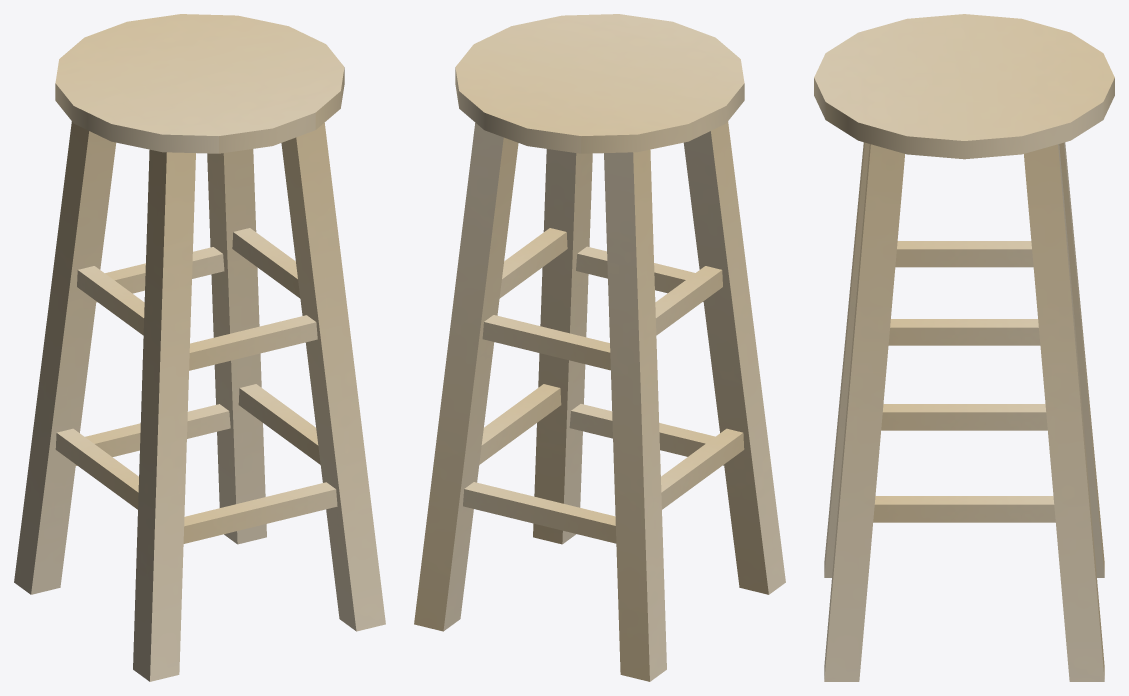
File: SM_Chair.fbx
3 renders of one model, left to right at view 1: azimuth 30°, elevation 25°; view 2: azimuth 150°, elevation 25°; view 3: azimuth 270°, elevation 25°, orthographic. The views are drawn at different scales.
Visible parts, largest first — view 1: SM_Chair; view 2: SM_Chair; view 3: SM_Chair.
Boxes of the visible parts, x1,y1,x2,y2 form: SM_Chair: (14,14,385,681); SM_Chair: (414,14,785,681); SM_Chair: (814,14,1114,681).
Size of the model in its own units: 30 by 59.98 by 30.
